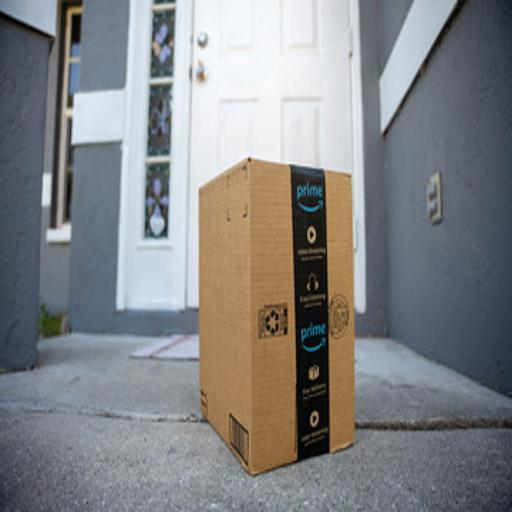Amazon: (196, 156, 360, 483)
